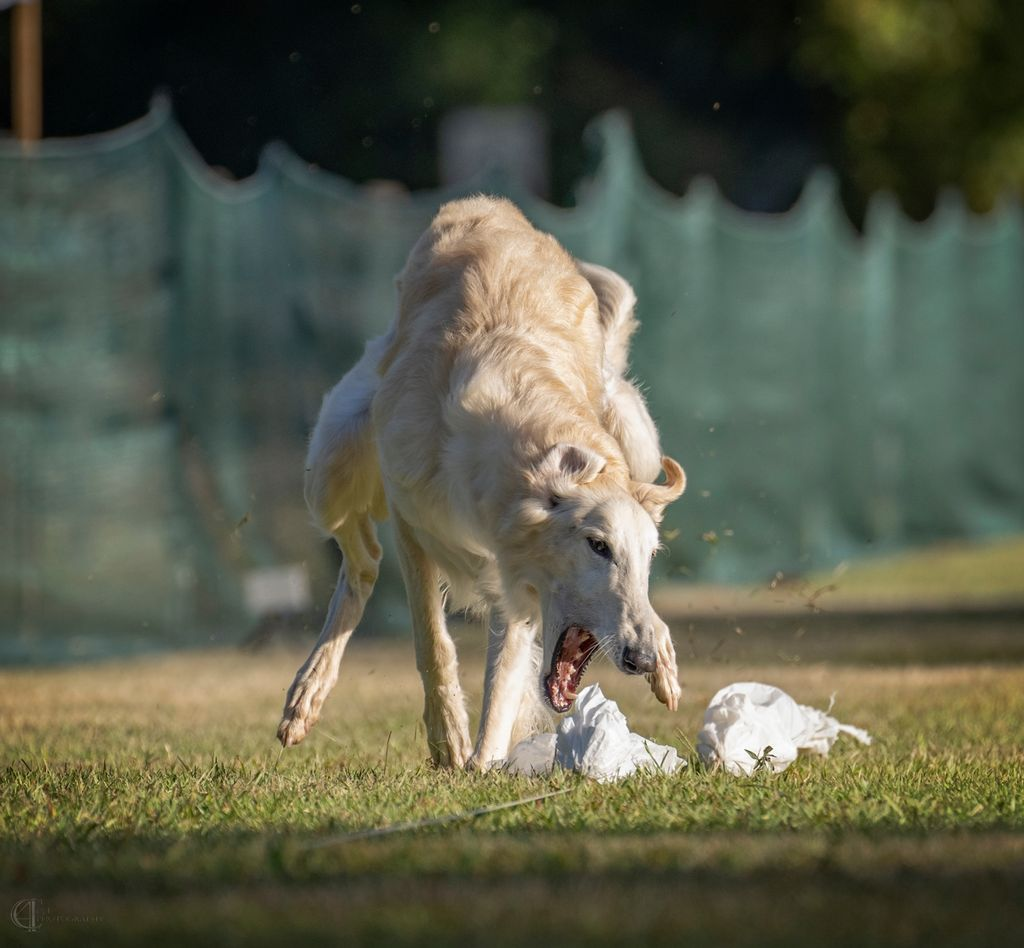borzoi: (241, 151, 698, 792)
